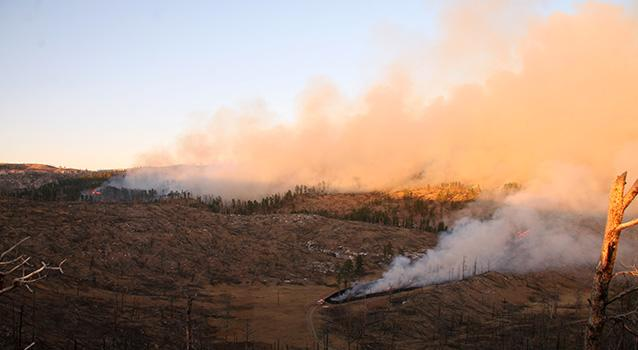smoke: (88, 61, 446, 200), (327, 175, 633, 305)
